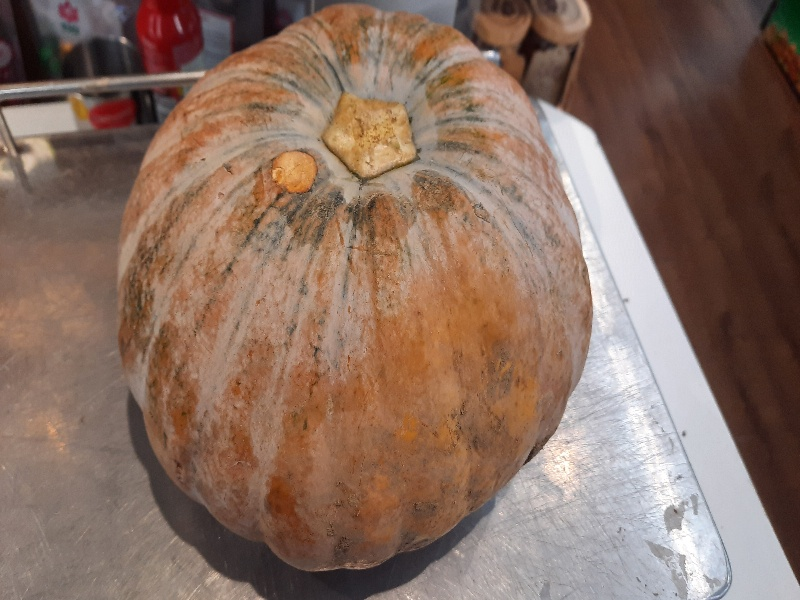vege: (111, 6, 596, 580)
